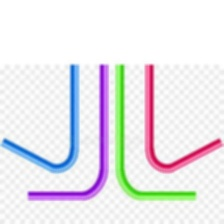drinking_straw: (24, 61, 112, 205), (111, 61, 199, 205), (140, 63, 224, 178), (0, 61, 83, 175)
